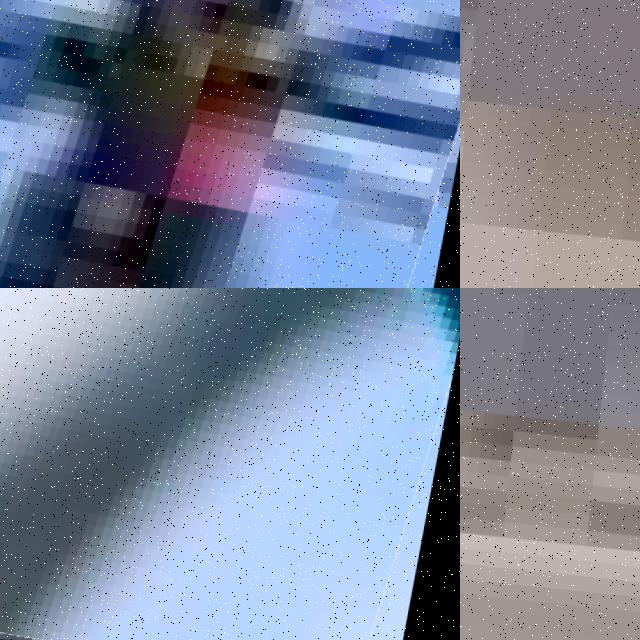drone: (0, 288, 460, 640), (0, 0, 460, 288)
